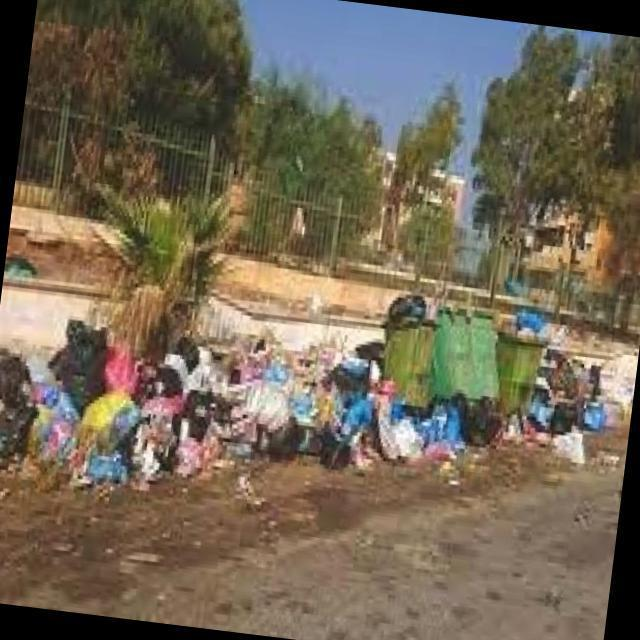garbage: (0, 249, 640, 550)
